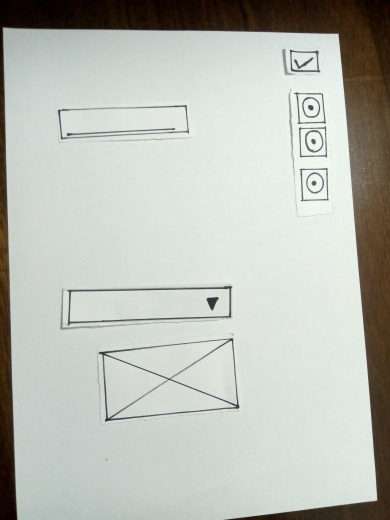checkbox: (285, 50, 322, 75)
dropdown: (62, 290, 231, 323)
img: (101, 337, 247, 423)
radio: (295, 91, 325, 122), (302, 167, 332, 198), (298, 127, 328, 158)
text: (58, 106, 190, 134)
